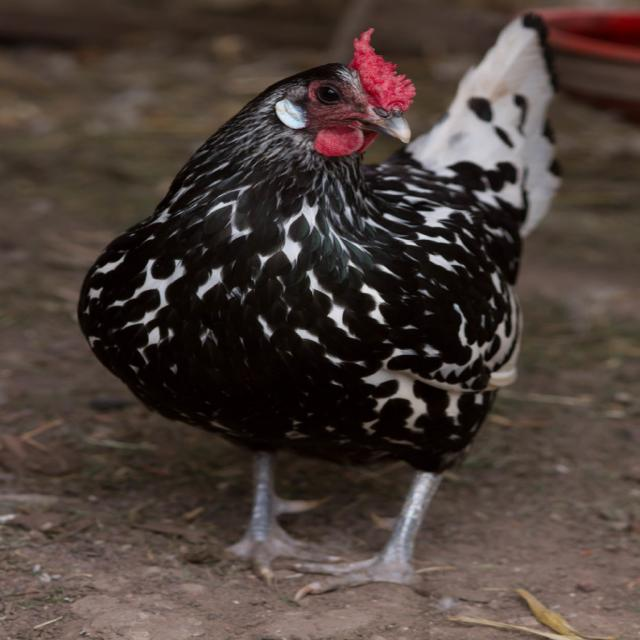Chicken: (54, 47, 575, 604)
